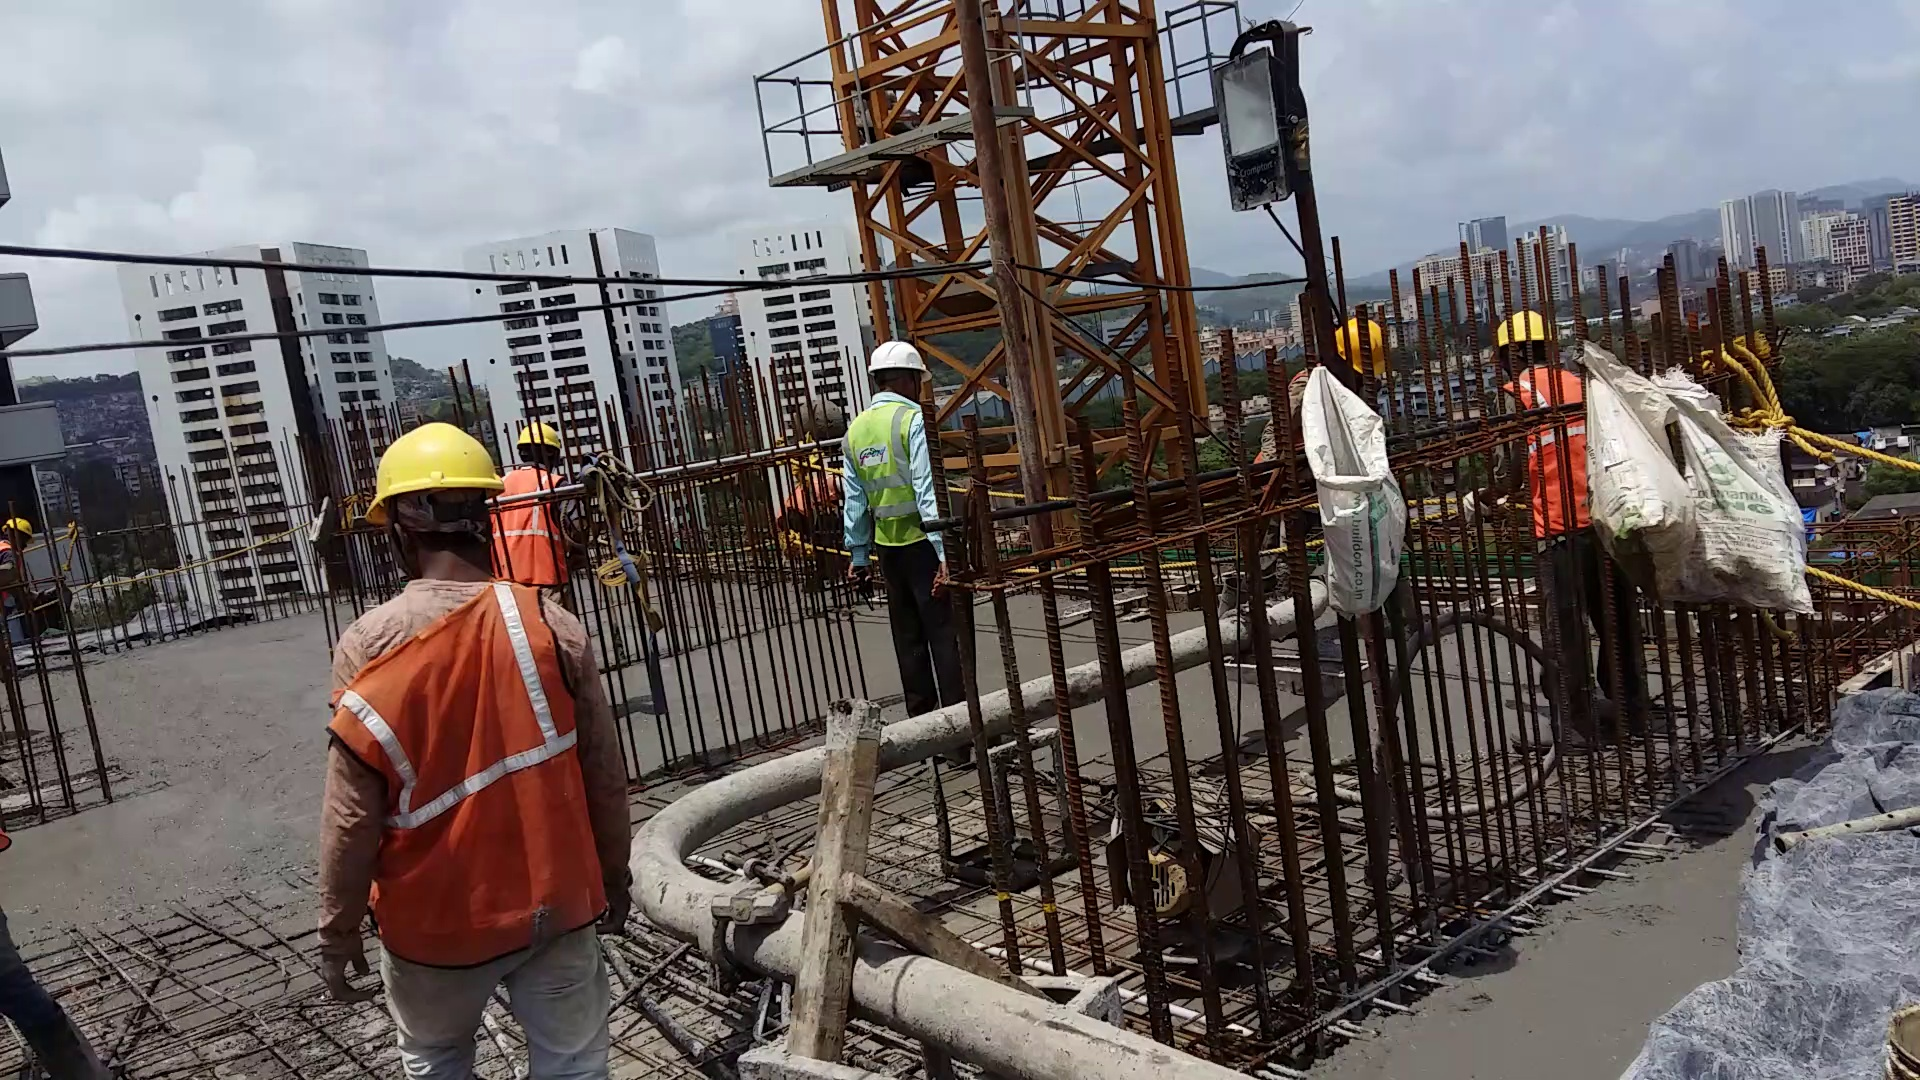SAFE: (351, 423, 567, 934), (849, 340, 930, 554)
